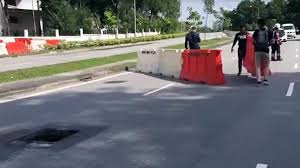Manhole-Open: (22, 114, 89, 153)
car: (284, 19, 299, 43)
human: (249, 15, 281, 90), (226, 20, 254, 84), (269, 20, 287, 62), (183, 23, 206, 45)
